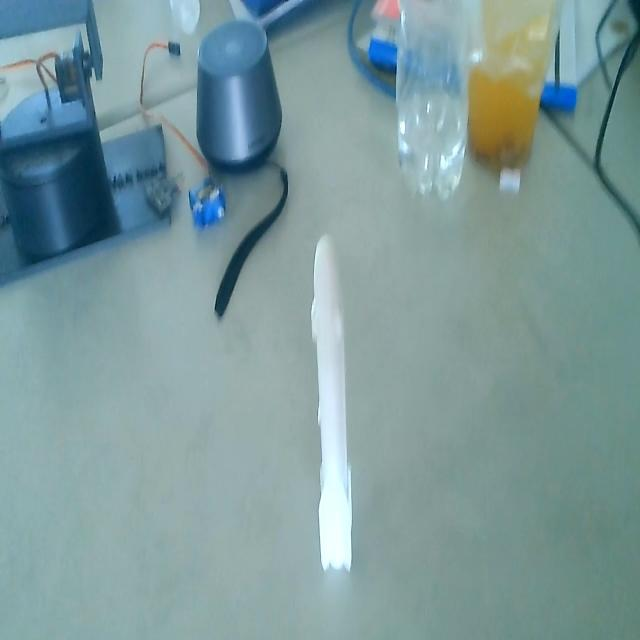Rocket: (307, 228, 359, 580)
